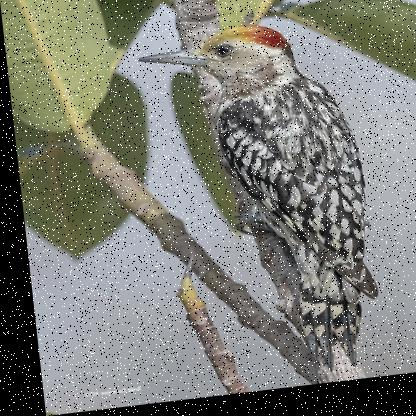Burung: (134, 20, 378, 392)
